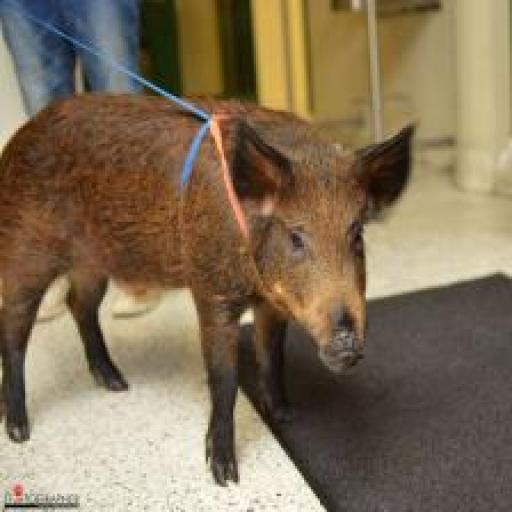Pig: (0, 92, 421, 484)
